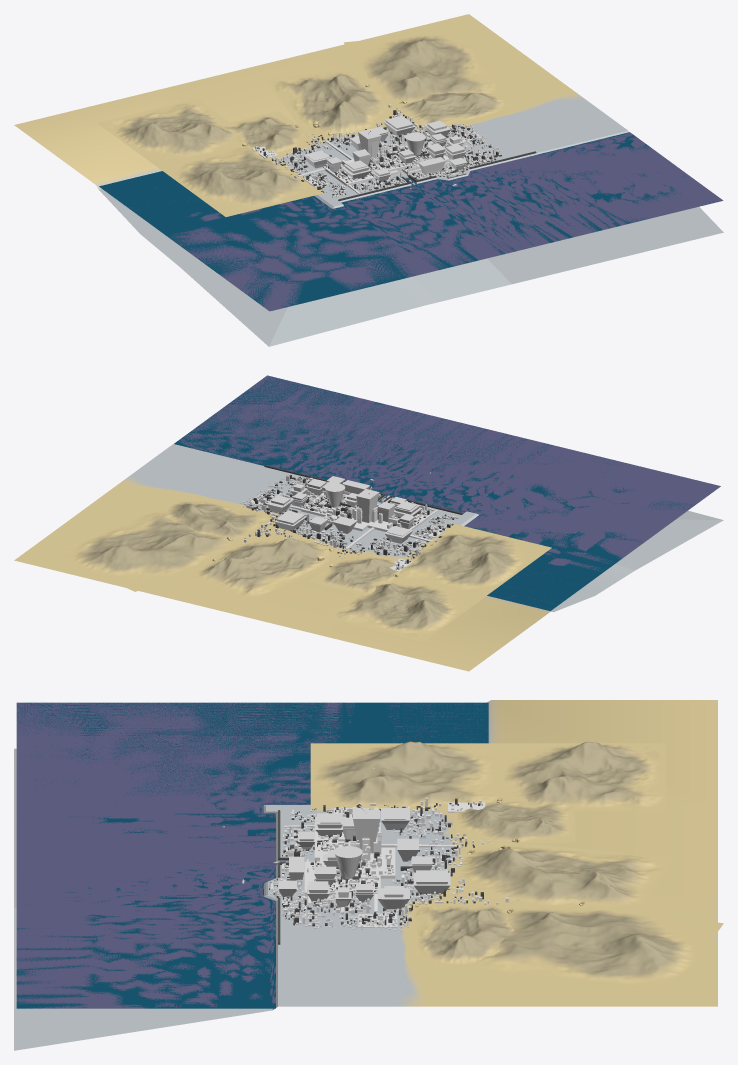
File: city.gltf
The picture shows the model from 3 angles, top to bottom: view 1: azimuth 30°, elevation 25°; view 2: azimuth 150°, elevation 25°; view 3: azimuth 270°, elevation 25°; orthographic projection. The views are drawn at different scales.
Parts seen in each view (by area): view 1: City_Surface, City_Water_01, City_mountainrange, City_Water, City_Buildingcomplex; view 2: City_Water_01, City_mountainrange, City_Surface, City_Water, City_Buildingcomplex, Volumetric Rect Area Light (3); view 3: City_Water_01, City_mountainrange, City_Surface, City_Water, City_Buildingcomplex, Volumetric Rect Area Light (3), Volumetric Rect Area Light (1).
Boxes of the visible parts, <box> form: City_Surface: <box>14,14,723,346</box>; City_Water_01: <box>106,132,723,311</box>; City_mountainrange: <box>97,30,517,216</box>; City_Water: <box>99,132,716,308</box>; City_Buildingcomplex: <box>252,104,536,201</box>; City_Water_01: <box>178,375,720,601</box>; City_mountainrange: <box>48,494,551,641</box>; City_Surface: <box>14,444,723,671</box>; City_Water: <box>174,376,694,610</box>; City_Buildingcomplex: <box>240,465,462,571</box>; Volumetric Rect Area Light (3): <box>356,489,379,522</box>; City_Water_01: <box>16,702,488,1008</box>; City_mountainrange: <box>310,741,723,995</box>; City_Surface: <box>14,700,717,1050</box>; City_Water: <box>16,702,488,1008</box>; City_Buildingcomplex: <box>266,797,508,944</box>; Volumetric Rect Area Light (3): <box>353,810,380,853</box>; Volumetric Rect Area Light (1): <box>334,846,362,879</box>.
Bounding box in the file's own units: 2306 × 338 × 2253.
Materials: 8 (4 with a texture image).
